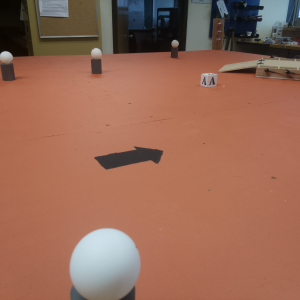blockA: (198, 73, 217, 86)
corner: (211, 18, 227, 50)
obstacle: (67, 222, 148, 300), (1, 46, 17, 80), (89, 47, 104, 75), (171, 41, 180, 60)
side: (258, 66, 300, 82)
slope: (221, 59, 254, 73)
start: (95, 140, 168, 173)
